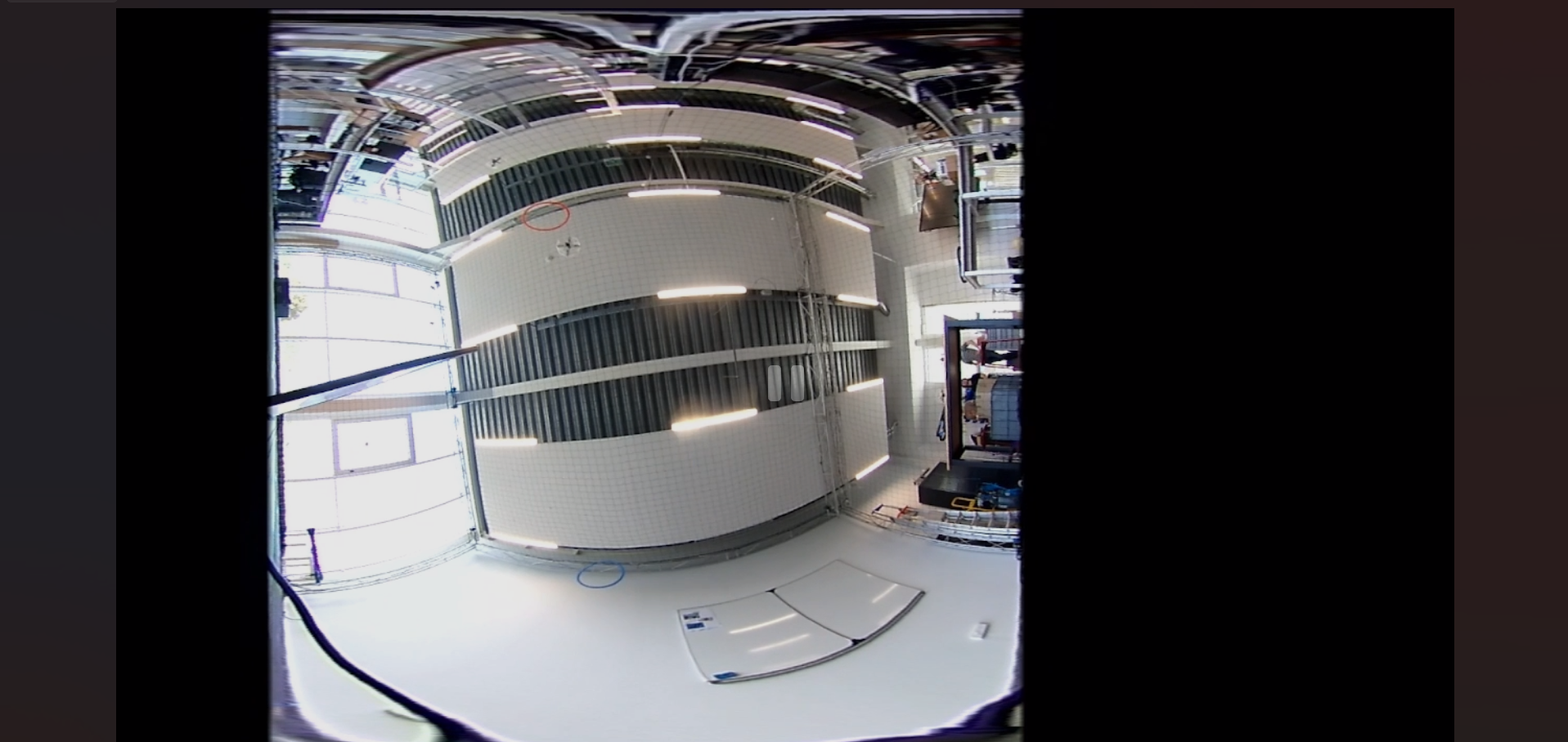Drone: (555, 235, 583, 261), (485, 153, 507, 170)
